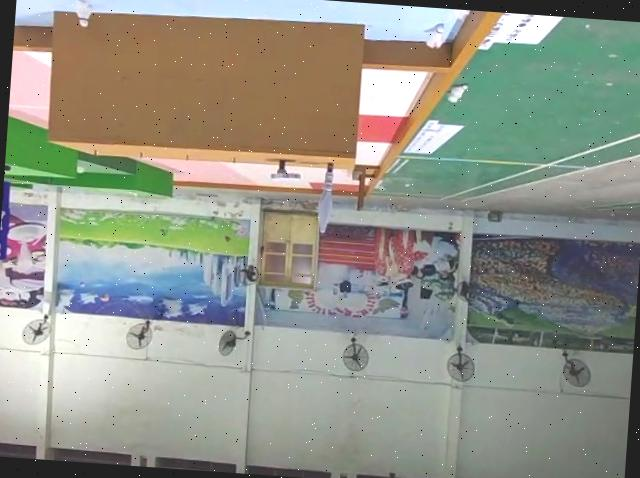Hand: (269, 159, 302, 185)
Sph: (315, 163, 339, 236)
